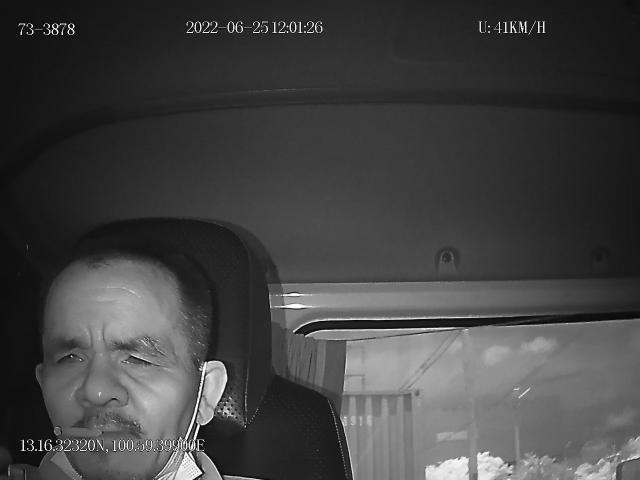SafeDriving: (49, 339, 92, 373)
Smoking: (51, 426, 103, 436)
